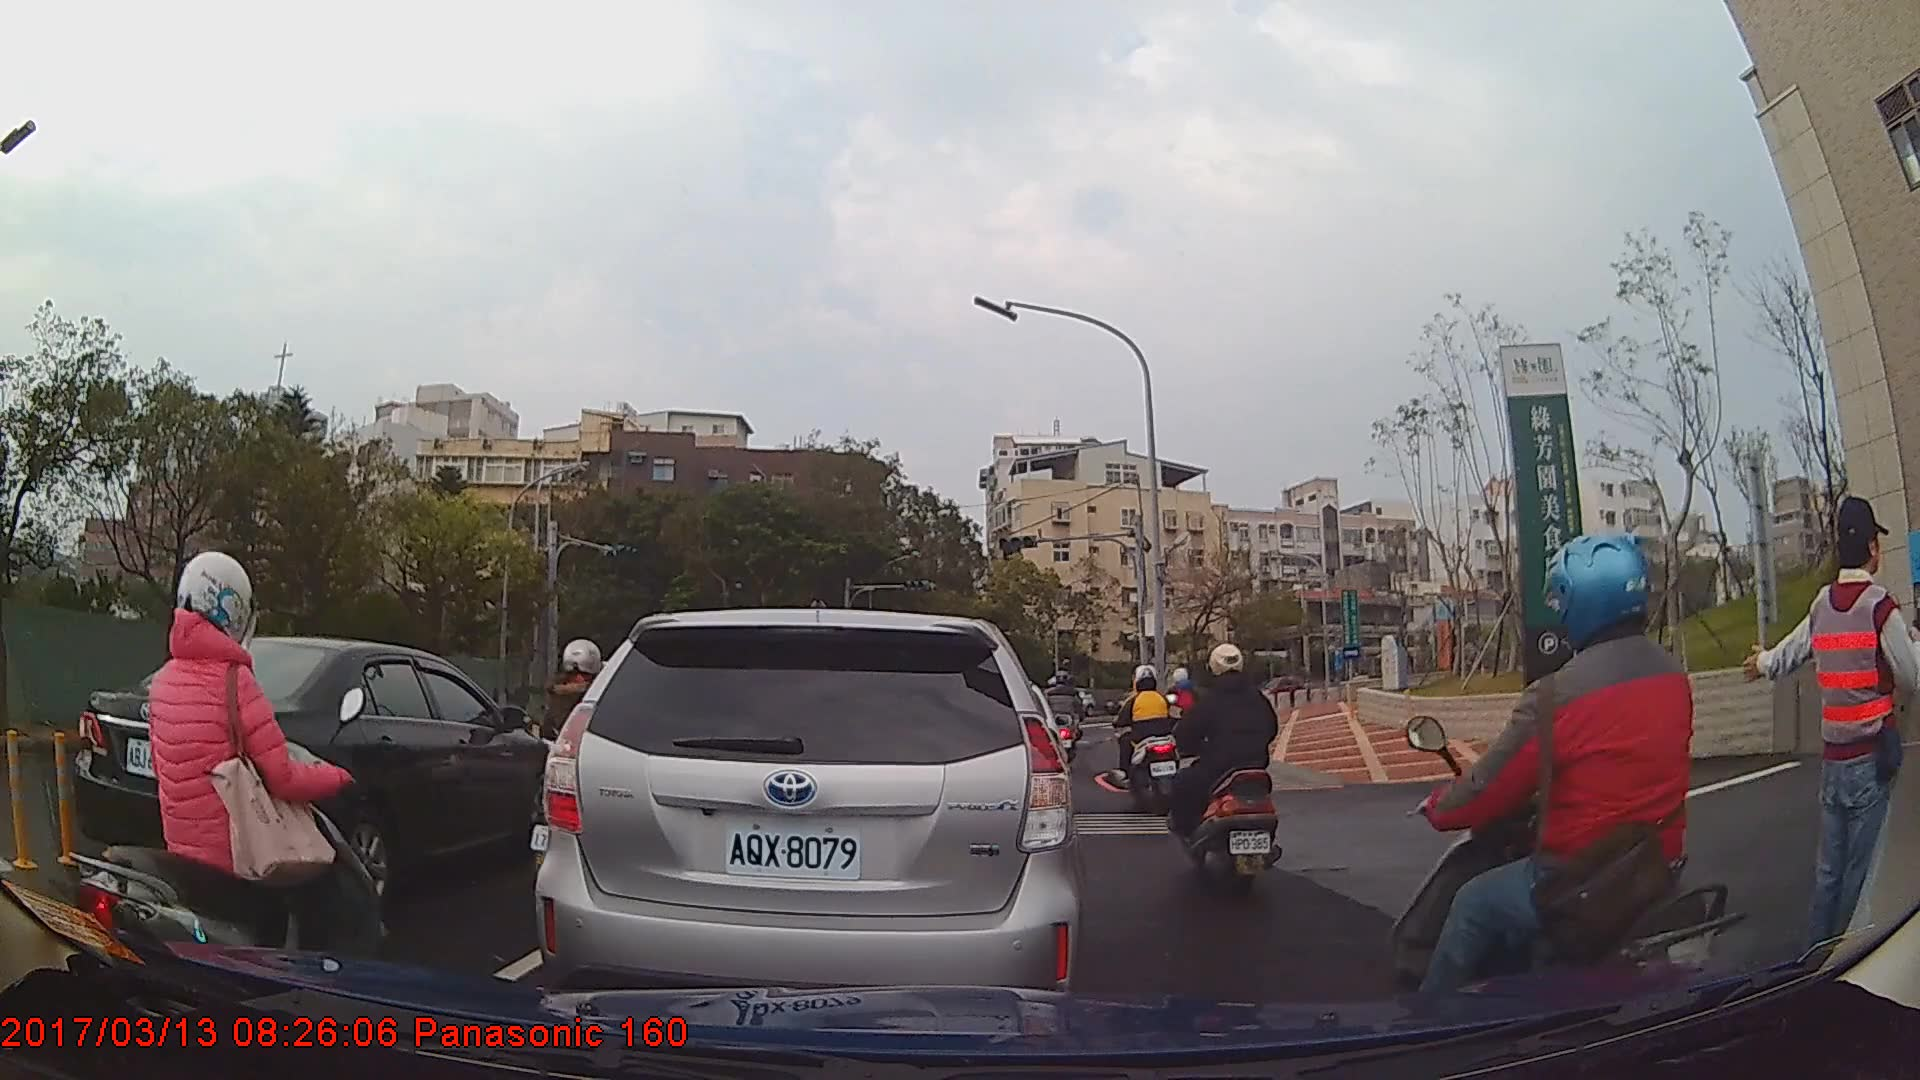pedestrian: (1745, 497, 1920, 979)
rider: (1390, 528, 1757, 1052), (71, 546, 397, 1047), (1165, 642, 1285, 902), (531, 634, 619, 923), (1113, 662, 1187, 820), (1043, 671, 1086, 766)
vehicle: (534, 607, 1085, 1025), (77, 636, 567, 919)
